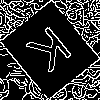K: (24, 25, 81, 82)
